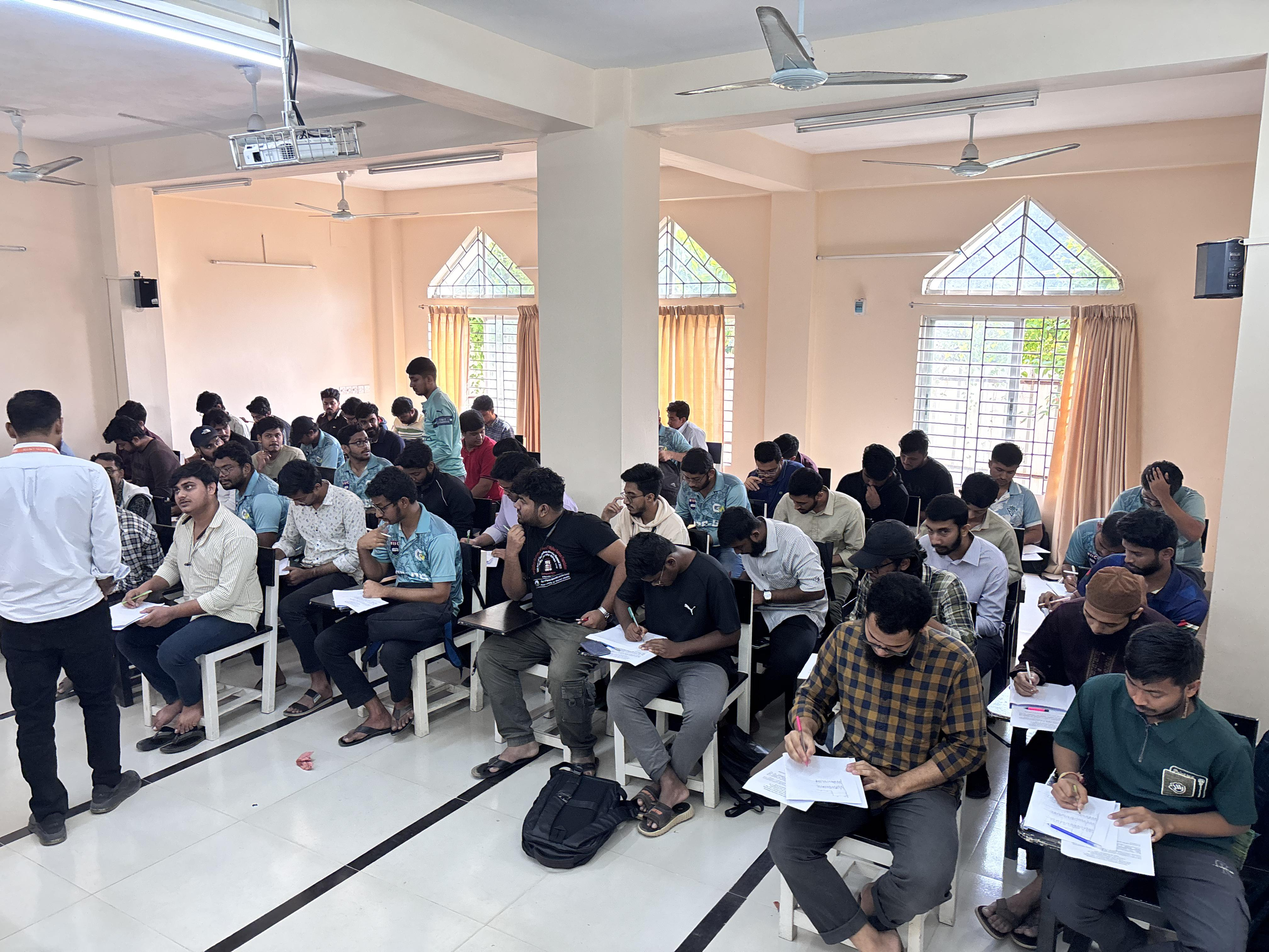copying: (457, 405, 489, 458), (318, 381, 339, 418)
invigilator: (0, 383, 130, 790)
no_cheating: (800, 578, 972, 860), (1058, 627, 1233, 877), (349, 477, 451, 663), (140, 462, 233, 664), (266, 459, 351, 676), (601, 530, 701, 678), (507, 470, 585, 631), (709, 502, 801, 607), (1044, 564, 1146, 651), (1109, 508, 1191, 590), (1132, 461, 1206, 531), (782, 474, 846, 536), (847, 448, 903, 518), (895, 424, 949, 494), (675, 448, 722, 524), (604, 461, 656, 528), (919, 494, 973, 556), (746, 441, 793, 507), (101, 416, 163, 464), (983, 439, 1039, 491), (398, 442, 444, 505), (959, 466, 1007, 524), (210, 446, 258, 497), (254, 419, 298, 471), (492, 456, 530, 514), (663, 398, 709, 439), (287, 413, 333, 454), (190, 422, 225, 459), (244, 395, 274, 426), (207, 409, 235, 440), (389, 395, 416, 427)
side_talking: (405, 355, 458, 450), (338, 425, 378, 489)
